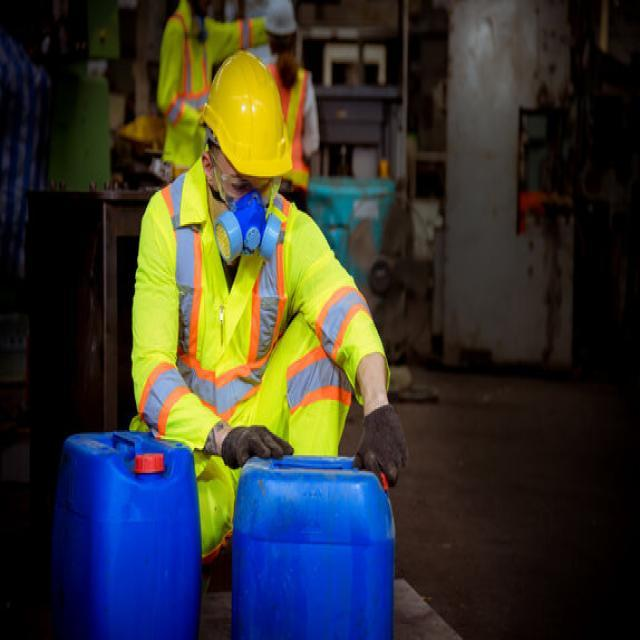helmet: (200, 66, 297, 190)
